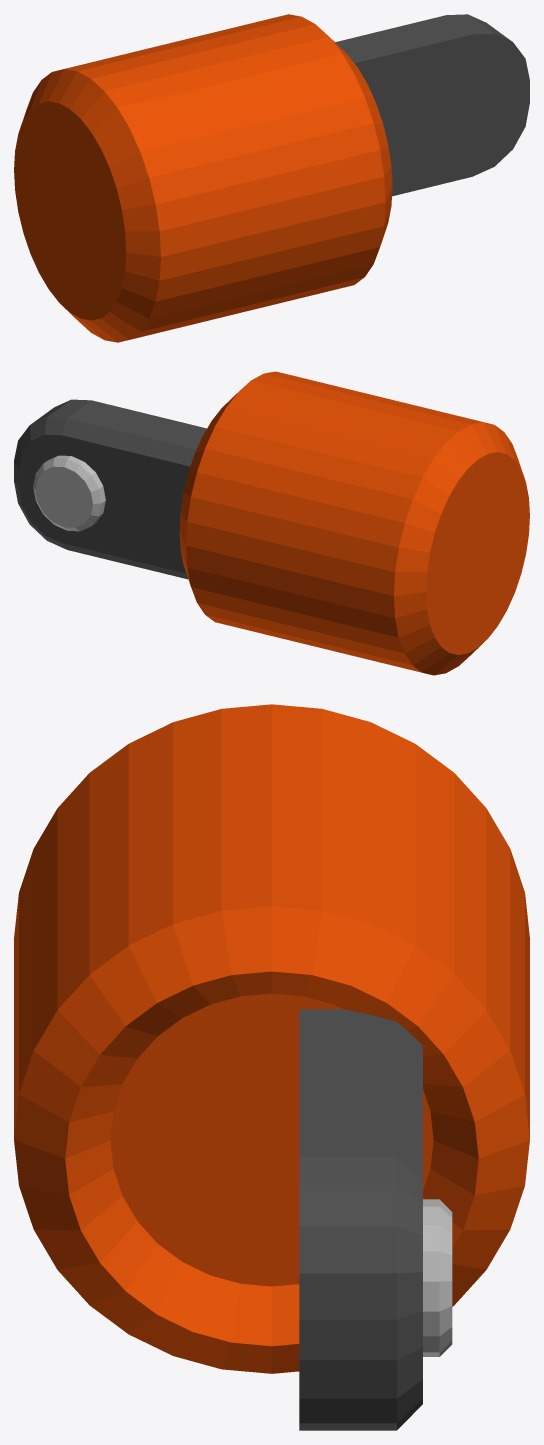
Rendered from AT_Corner_L.fbx.
The picture shows the model from 3 angles, top to bottom: view 1: azimuth 30°, elevation 25°; view 2: azimuth 150°, elevation 25°; view 3: azimuth 270°, elevation 25°; orthographic projection. The views are drawn at different scales.
Visible parts, largest first — view 1: AT_Corner_L; view 2: AT_Corner_L; view 3: AT_Corner_L.
Part boxes in pixels (x1,y1,x2,y2): AT_Corner_L: (14,14,529,342); AT_Corner_L: (14,371,529,675); AT_Corner_L: (14,704,529,1430).
Size of the model in its own units: 253 by 131 by 131.
